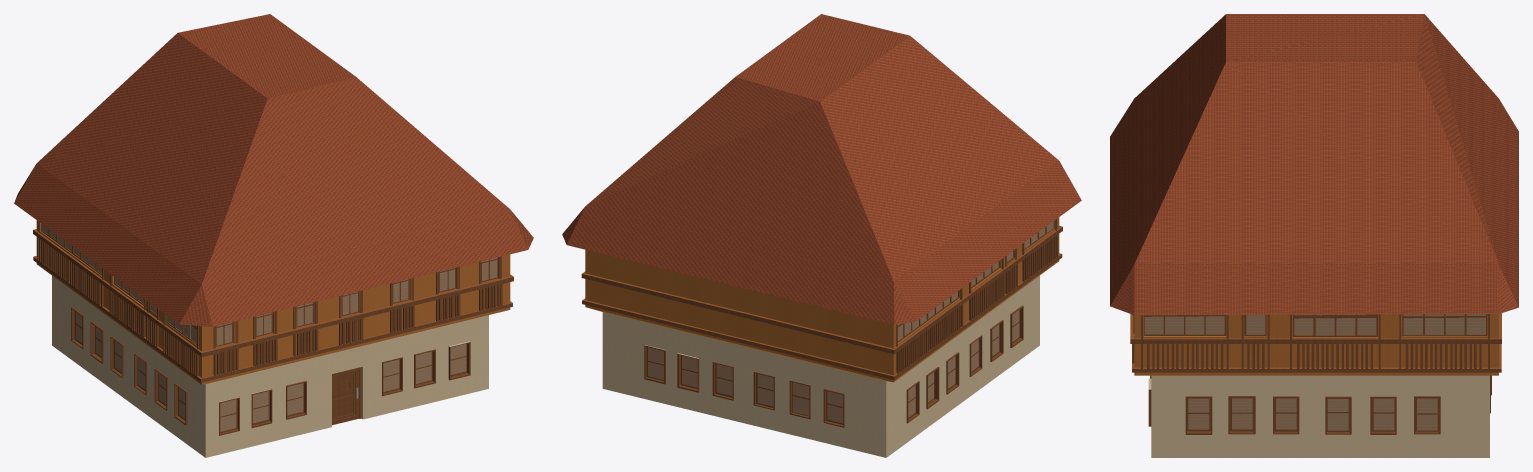
The model's file is albayrealitymunisipyo.glb.
3 renders of one model, left to right at view 1: azimuth 30°, elevation 25°; view 2: azimuth 150°, elevation 25°; view 3: azimuth 270°, elevation 25°, orthographic. The views are drawn at different scales.
Visible parts, largest first — view 1: _(Loose Entity); view 2: _(Loose Entity); view 3: _(Loose Entity).
Boxes of the visible parts, x1=… form: _(Loose Entity): x1=14, y1=14, x2=533, y2=457; _(Loose Entity): x1=562, y1=14, x2=1081, y2=457; _(Loose Entity): x1=1110, y1=14, x2=1518, y2=457.
Bounding box in the file's own units: 110 × 92.57 × 99.95.
Materials: 8 (7 with a texture image).
